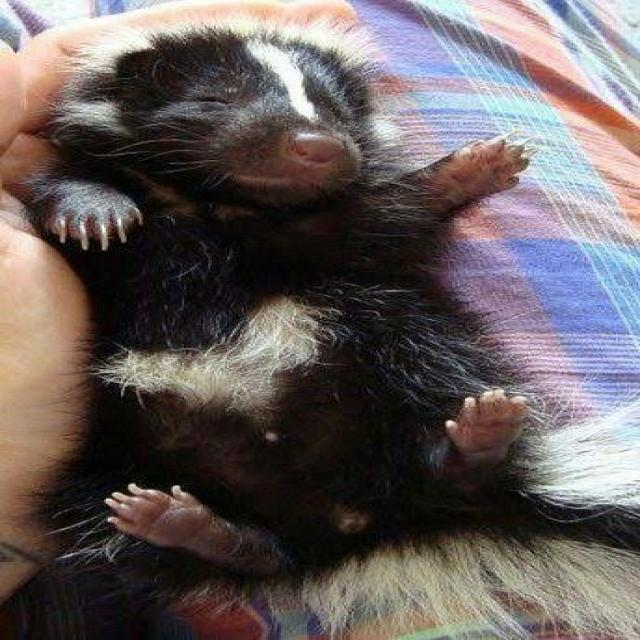Skunk: (15, 0, 621, 593)
